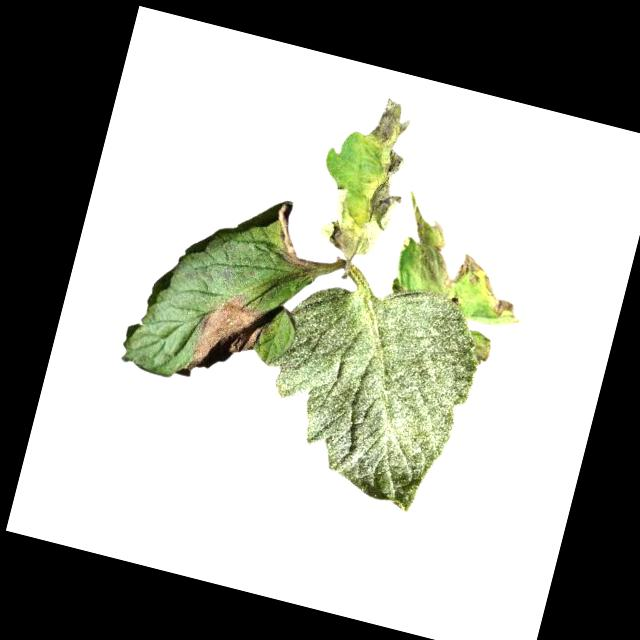Late_blight: (306, 85, 427, 263), (184, 281, 275, 385), (386, 188, 468, 290), (265, 202, 326, 271), (476, 273, 522, 320), (451, 249, 488, 291), (467, 338, 493, 370)
healthy: (234, 254, 494, 523)
